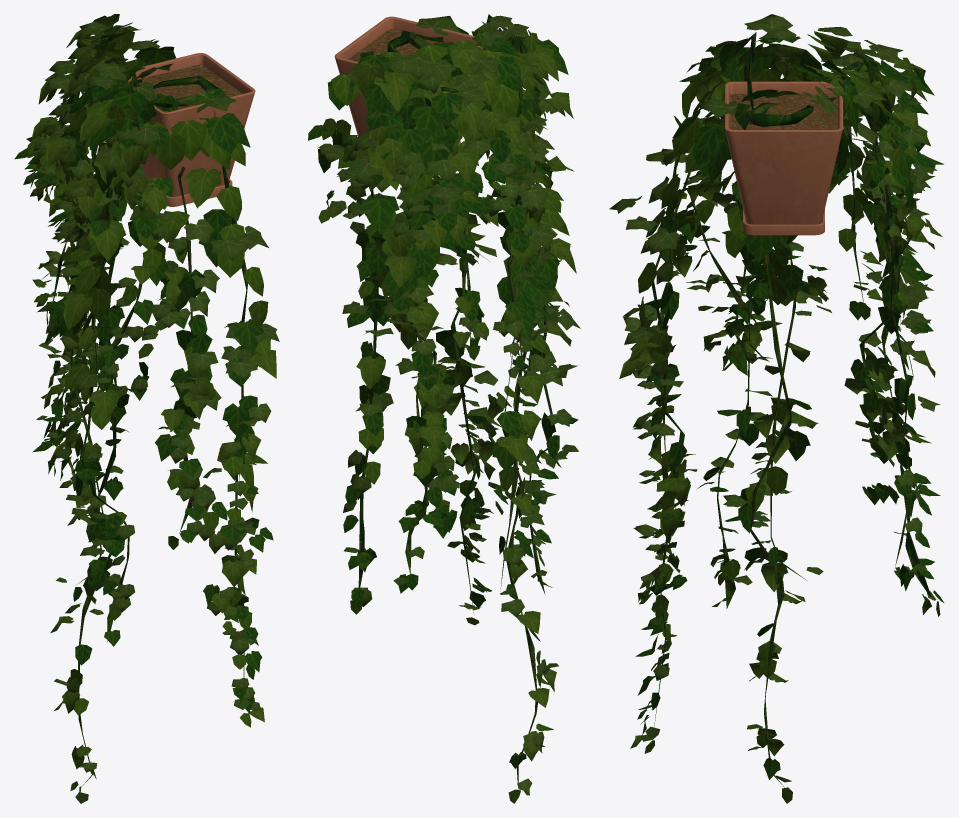
File: SM_PotBalcony.fbx
The picture shows the model from 3 angles, left to right: view 1: azimuth 30°, elevation 25°; view 2: azimuth 150°, elevation 25°; view 3: azimuth 270°, elevation 25°; orthographic projection. The views are drawn at different scales.
Parts seen in each view (by area): view 1: SM_PotBalcony_LOD0; view 2: SM_PotBalcony_LOD0; view 3: SM_PotBalcony_LOD0.
Part boxes in pixels (x1,y1,x2,y2): SM_PotBalcony_LOD0: [14, 14, 279, 803]; SM_PotBalcony_LOD0: [308, 14, 580, 803]; SM_PotBalcony_LOD0: [609, 14, 943, 803].
Size of the model in its own units: 50.71 by 70.84 by 185.
